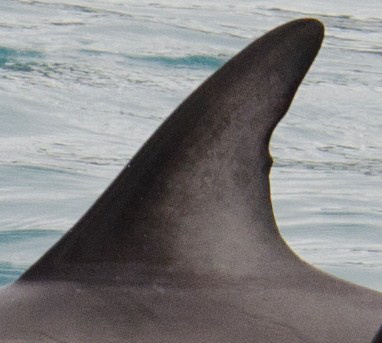fin: (11, 16, 354, 292)
